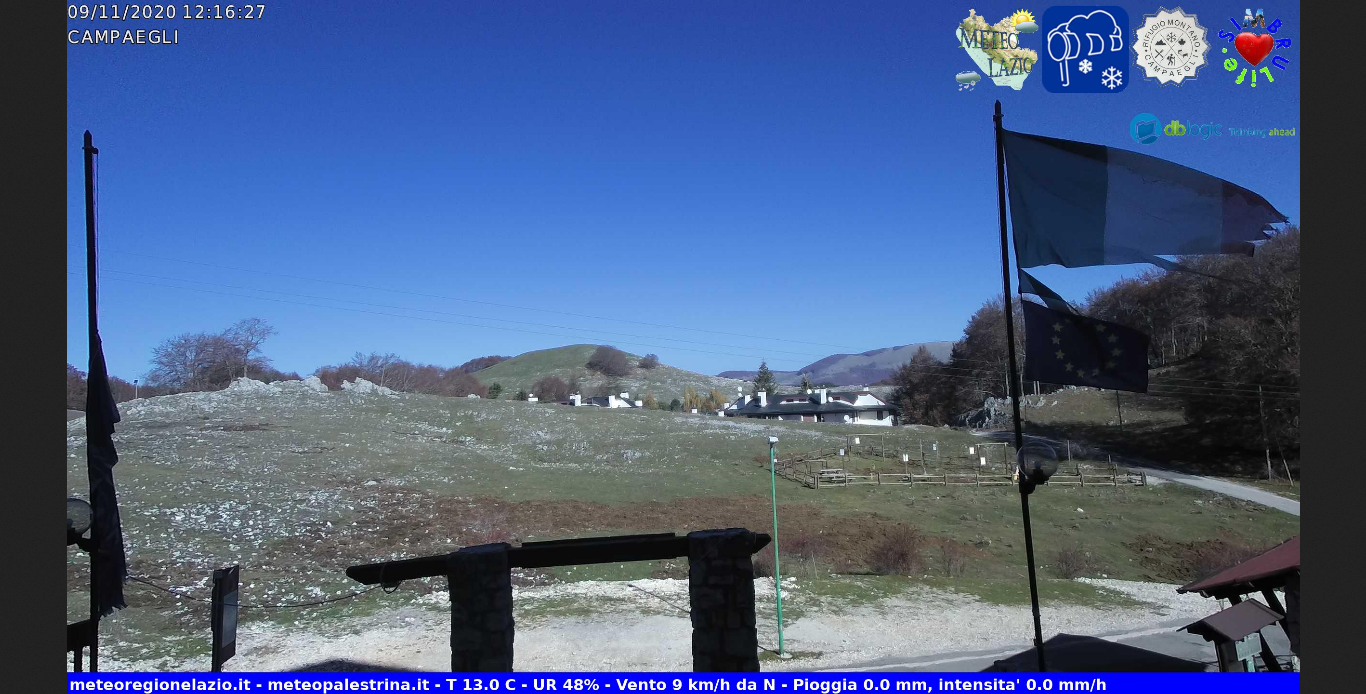yes: (990, 113, 1296, 282), (998, 293, 1168, 401)
